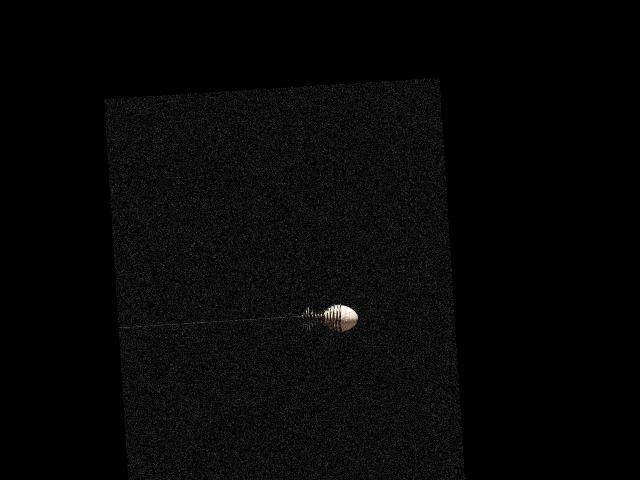egg: (323, 303, 358, 332)
